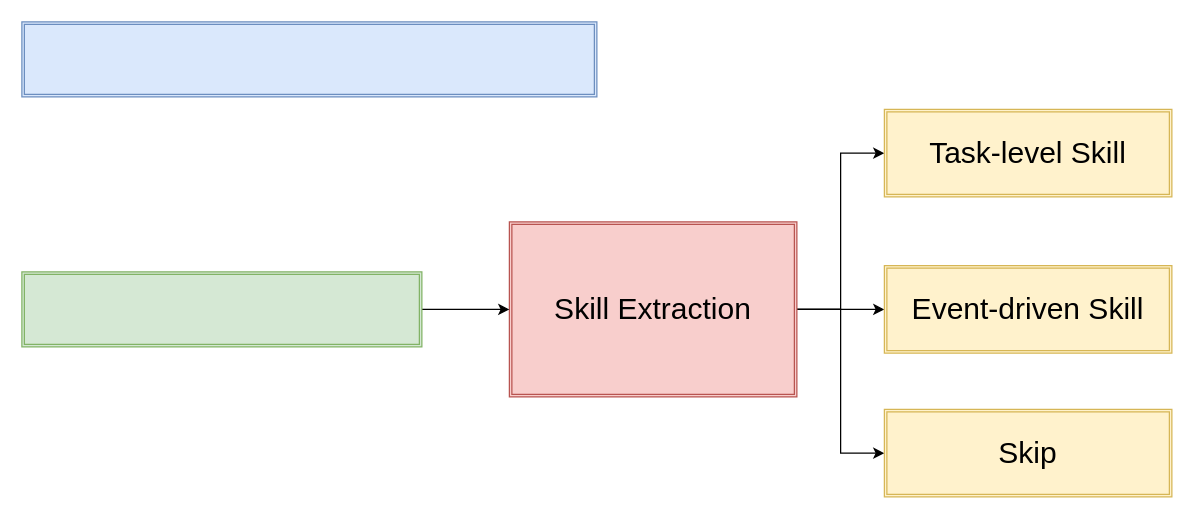
This 1194x519 diagram has some shape labels left out. Here are the shapes that lost their labels. From the top down, the centre of each, then its label:
At (309,59): "Evidence = Trajectory + Result + Context".
At (221,309): "Single or a little set of related trajectory evidences".
